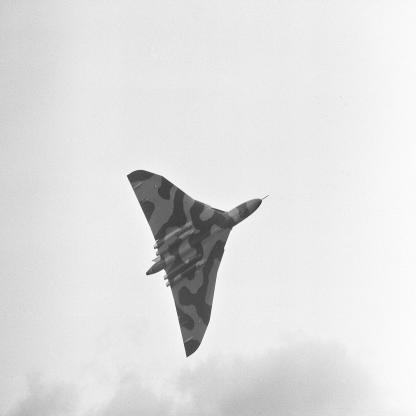Vulcan: (128, 171, 270, 359)
